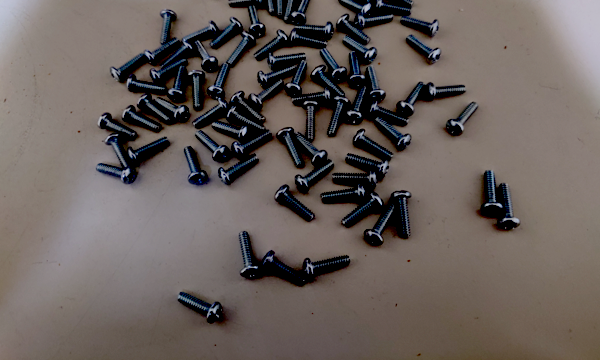shortscrew: (262, 250, 306, 286), (275, 185, 315, 223), (176, 292, 222, 324), (342, 192, 384, 227), (365, 203, 398, 246), (230, 89, 267, 126), (218, 155, 260, 187), (376, 116, 412, 152), (294, 160, 335, 191), (353, 129, 394, 160), (293, 132, 329, 166), (304, 254, 352, 279), (192, 98, 230, 129), (253, 30, 291, 61), (337, 13, 372, 46), (368, 100, 410, 127), (127, 138, 169, 165), (277, 127, 304, 169), (248, 80, 285, 110), (498, 183, 521, 231), (311, 65, 345, 97), (448, 101, 479, 136), (407, 35, 442, 66), (111, 53, 147, 83), (195, 130, 229, 161), (122, 105, 161, 132), (227, 104, 266, 131), (138, 94, 173, 124), (226, 32, 255, 68), (342, 36, 378, 65), (482, 170, 504, 217), (97, 112, 136, 138), (150, 59, 189, 85), (346, 154, 390, 177), (398, 81, 426, 117), (320, 47, 348, 83), (210, 18, 244, 47), (160, 40, 195, 68), (240, 232, 261, 278), (321, 182, 367, 203), (392, 190, 411, 240), (328, 96, 350, 138), (345, 85, 368, 125), (184, 147, 208, 185), (292, 86, 334, 107), (212, 121, 252, 143), (207, 62, 230, 100), (183, 21, 219, 45), (257, 66, 298, 87), (145, 40, 178, 66), (104, 134, 129, 168), (400, 15, 440, 36), (154, 98, 189, 122), (96, 165, 137, 185), (284, 60, 306, 97), (126, 74, 166, 94), (302, 100, 321, 142), (334, 169, 377, 187), (194, 40, 218, 72), (424, 83, 468, 100), (366, 66, 386, 103), (188, 70, 206, 111), (355, 12, 395, 30), (290, 28, 327, 47), (295, 21, 334, 39), (167, 66, 186, 101), (267, 51, 306, 68), (348, 52, 366, 88), (159, 10, 177, 45), (337, 0, 373, 17), (248, 5, 266, 37), (290, 0, 311, 26), (283, 0, 301, 23), (228, 0, 266, 9), (272, 0, 288, 18), (258, 0, 277, 15), (379, 0, 414, 8), (339, 0, 376, 5)
